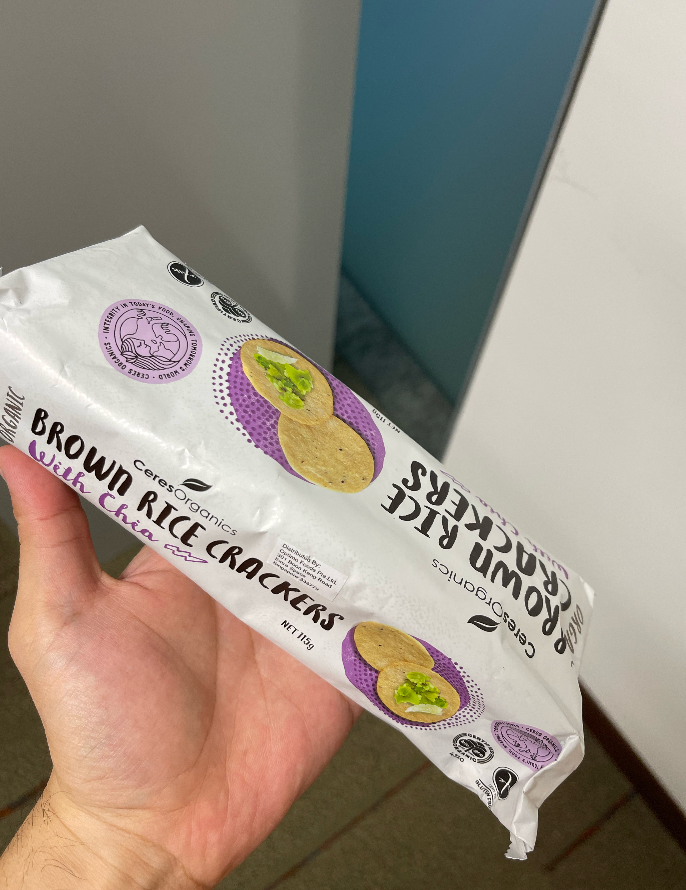crackers_100g-199g: (75, 284, 550, 745)
